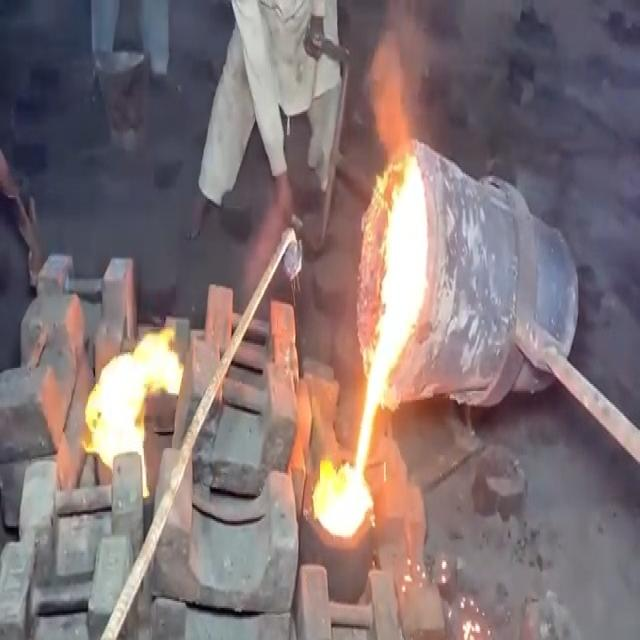dress: (197, 1, 306, 172), (150, 0, 281, 124), (273, 120, 372, 273), (207, 1, 252, 97), (282, 154, 350, 186), (198, 143, 269, 150)
